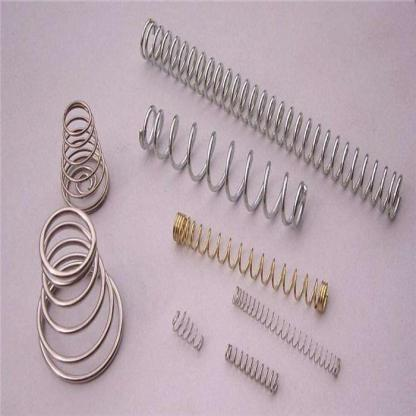FOD: (137, 15, 406, 222), (137, 101, 310, 229), (33, 204, 127, 385), (172, 210, 330, 316), (231, 282, 343, 380), (59, 96, 110, 213), (224, 341, 280, 396), (171, 307, 206, 351)
